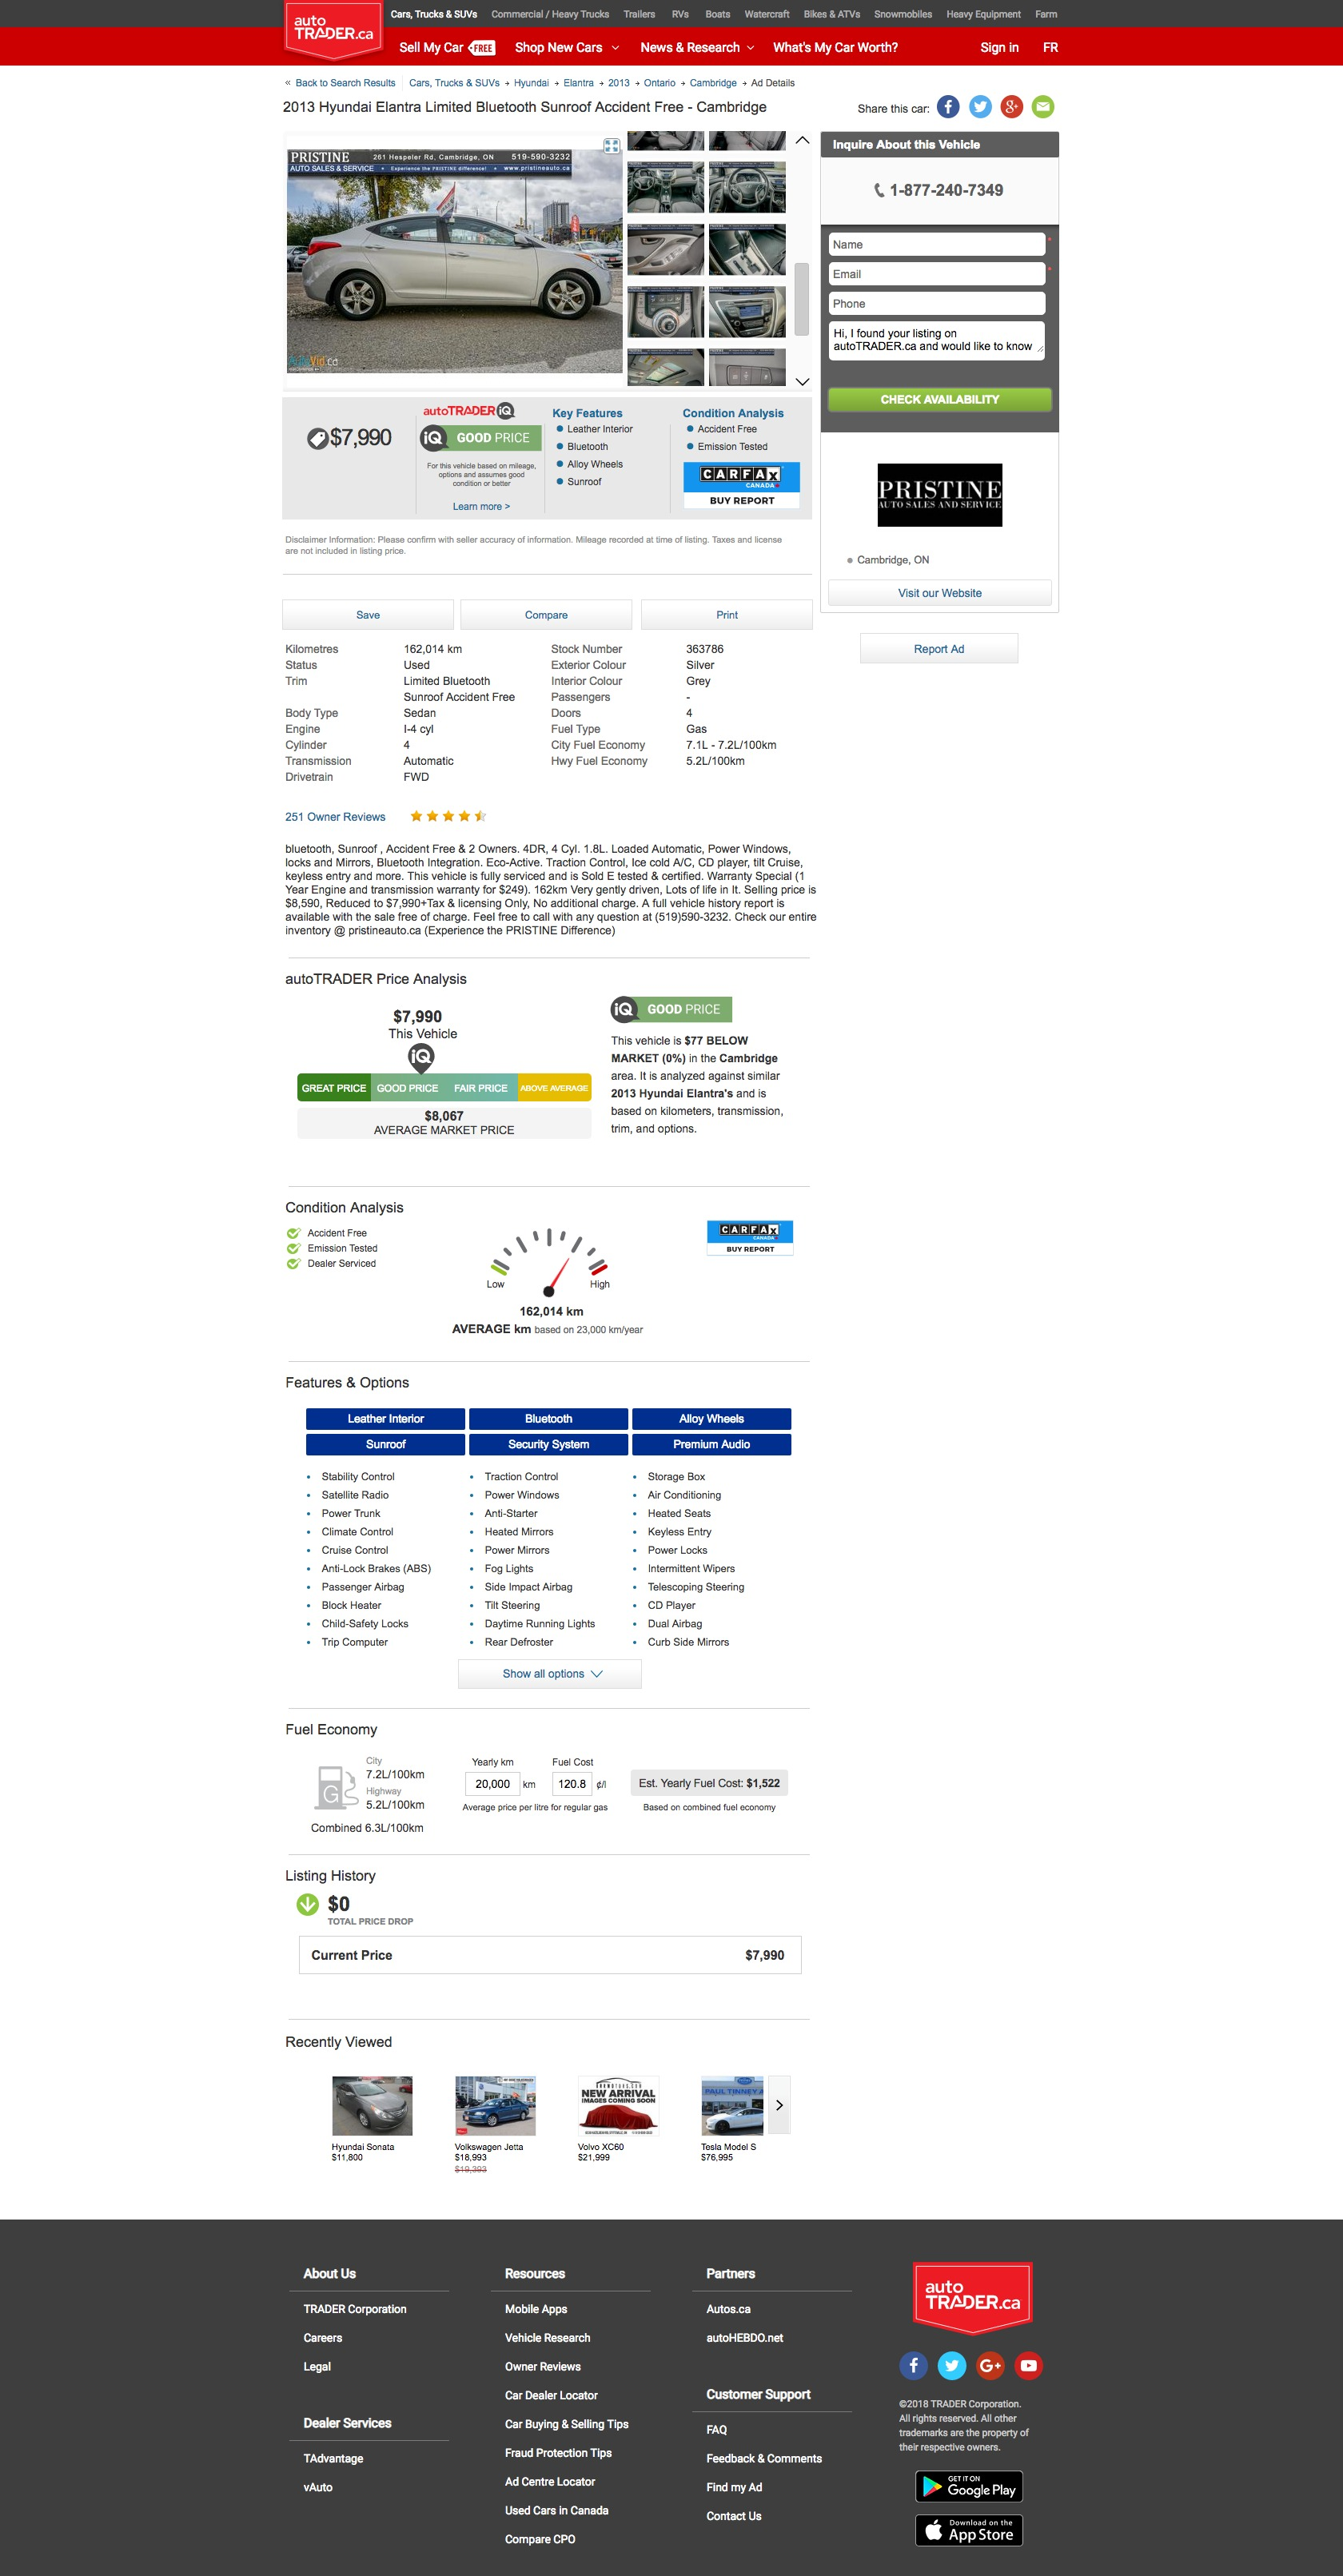car: (796, 378, 811, 388)
